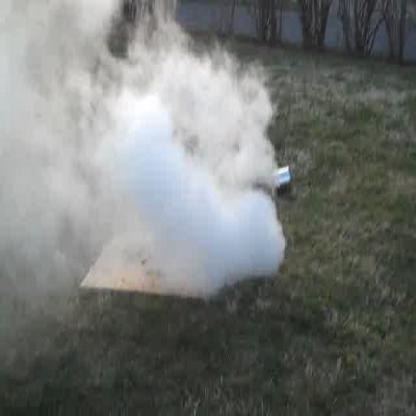Smoke: (5, 20, 281, 268)
